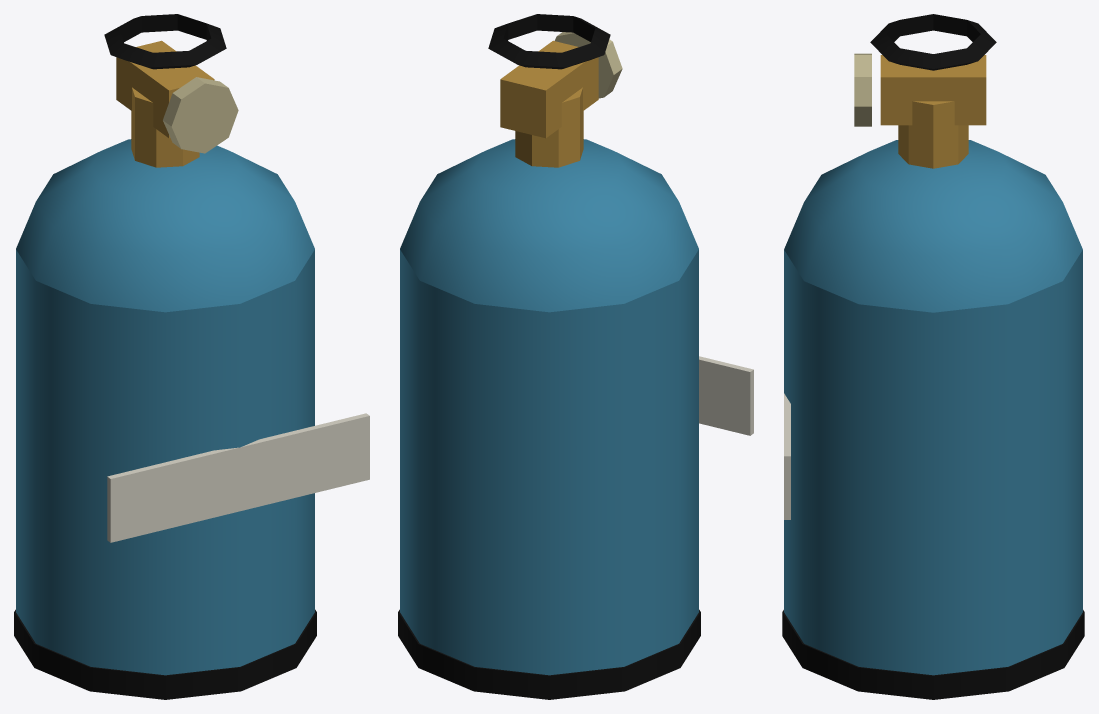
File: tool_oxygen_tank.fbx
The picture shows the model from 3 angles, left to right: view 1: azimuth 30°, elevation 25°; view 2: azimuth 150°, elevation 25°; view 3: azimuth 270°, elevation 25°; orthographic projection.
Parts seen in each view (by area): view 1: tool_oxygen_tank; view 2: tool_oxygen_tank; view 3: tool_oxygen_tank.
Part boxes in pixels (x1,y1,x2,y2): tool_oxygen_tank: (14, 14, 369, 699); tool_oxygen_tank: (398, 14, 753, 699); tool_oxygen_tank: (782, 14, 1084, 699).
Bounding box in the file's own units: 0.172 × 0.3777 × 0.172.
Materials: 1 (1 with a texture image).
